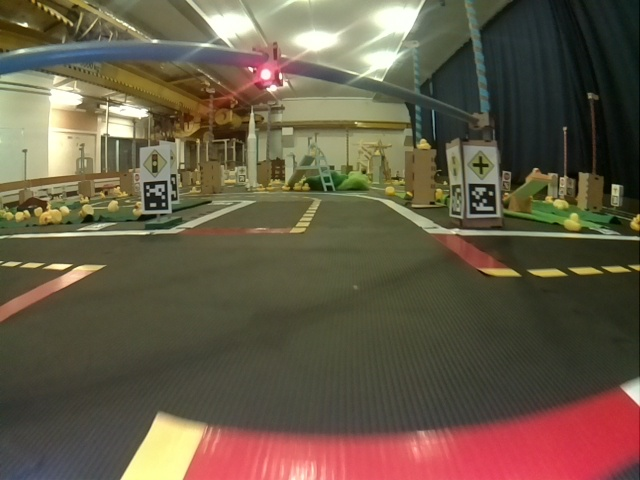Duckie: (564, 213, 580, 230), (47, 210, 61, 222), (80, 206, 93, 217), (107, 200, 119, 211), (39, 213, 51, 224), (417, 138, 430, 148), (132, 202, 142, 215), (385, 186, 394, 196), (435, 188, 444, 198)
Intersection sign: (467, 148, 496, 182)
QR code: (468, 183, 497, 216), (142, 180, 171, 212), (449, 184, 460, 217), (170, 174, 179, 204), (591, 226, 618, 235)
Signal sign: (143, 147, 169, 178), (448, 151, 461, 182)
Traffic light: (253, 43, 283, 86)
